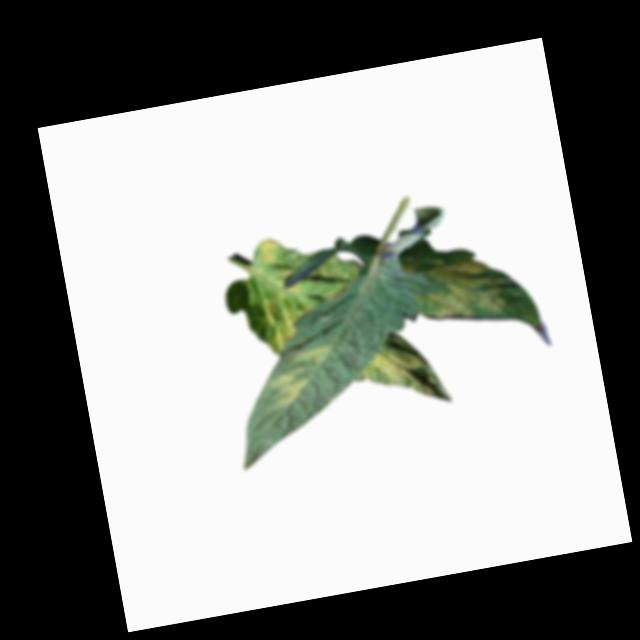Leaf_Mold: (399, 244, 506, 327), (360, 330, 452, 415), (263, 340, 341, 408), (263, 294, 309, 351), (250, 236, 283, 267), (277, 264, 304, 294)
